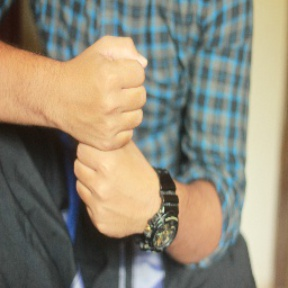G: (63, 25, 162, 240)
